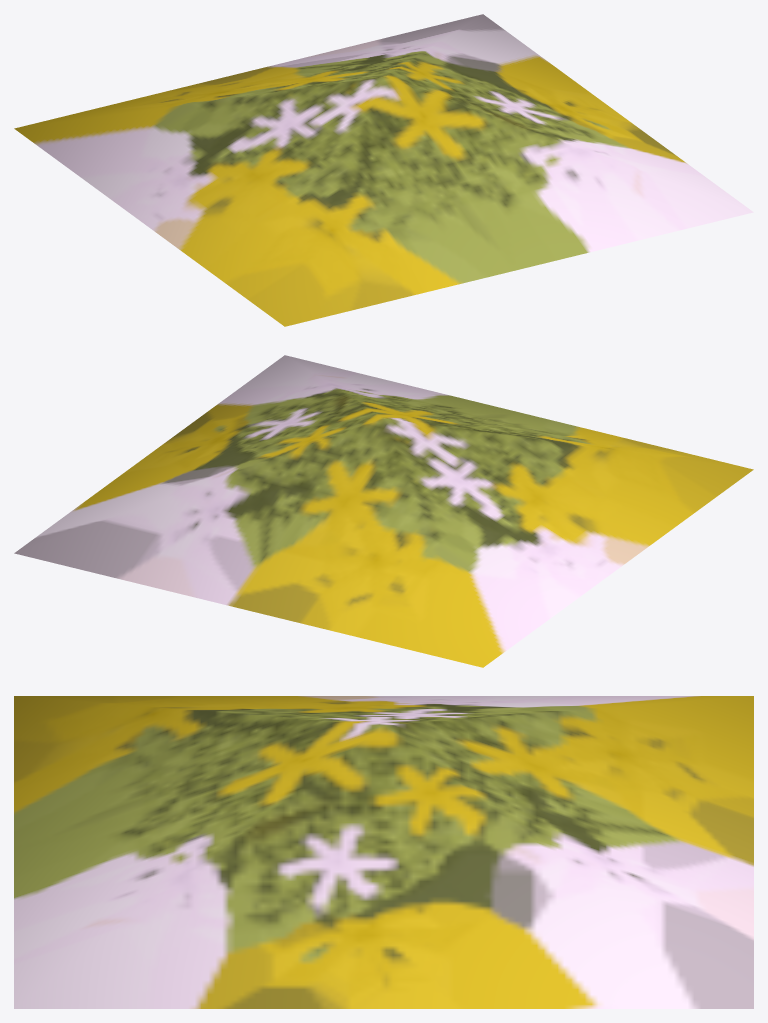
File: PW_FOC_Pauridia_Lod_1.fbx
3 renders of one model, top to bottom at view 1: azimuth 30°, elevation 25°; view 2: azimuth 150°, elevation 25°; view 3: azimuth 270°, elevation 25°, orthographic. The views are drawn at different scales.
Visible parts, largest first — view 1: PW_FOC_Pauridia_Lod_1; view 2: PW_FOC_Pauridia_Lod_1; view 3: PW_FOC_Pauridia_Lod_1.
Part boxes in pixels (x1=…): PW_FOC_Pauridia_Lod_1: x1=14, y1=14, x2=753, y2=326; PW_FOC_Pauridia_Lod_1: x1=14, y1=355, x2=753, y2=667; PW_FOC_Pauridia_Lod_1: x1=14, y1=696, x2=753, y2=1008.
Size of the model in its own units: 0.5081 by 0.0959 by 0.5081.
